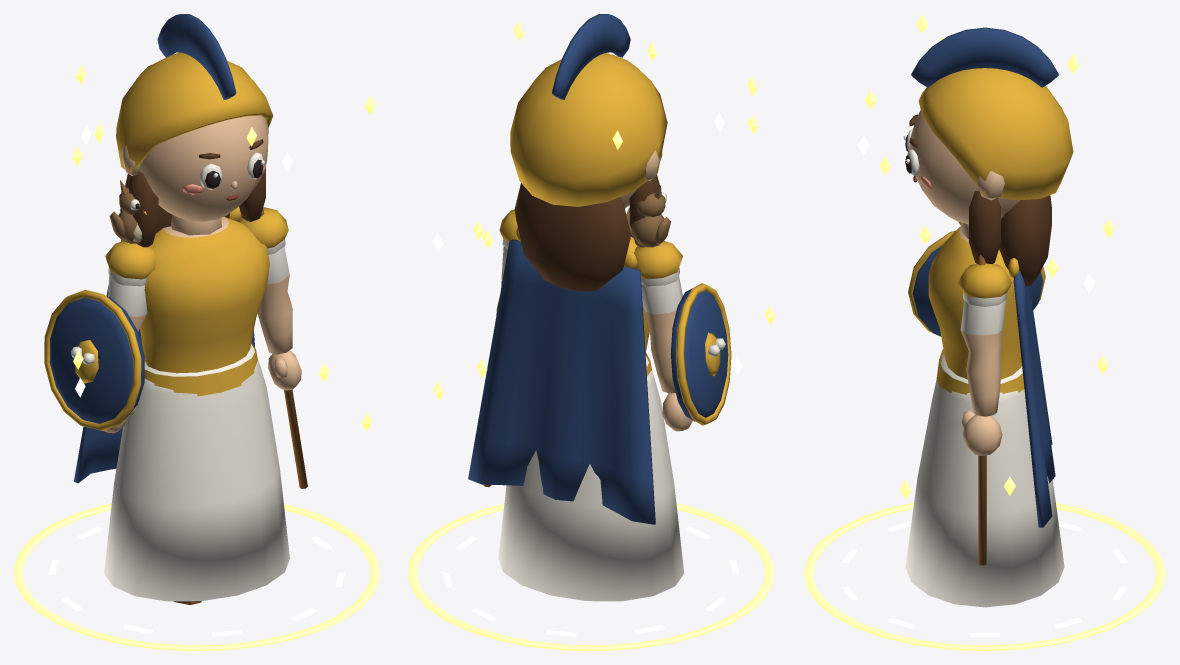
The model's file is athene.glb.
3 views of the same model, side by side, from view 1: azimuth 30°, elevation 25°; view 2: azimuth 150°, elevation 25°; view 3: azimuth 270°, elevation 25° (orthographic).
Parts seen in each view (by area): view 1: huefte, rumpf, kopfschmuck, itemL, kopf, vfx_aura, armR, armL, haare, umhang, begleiter, itemR; view 2: umhang, kopfschmuck, huefte, haare, itemL, vfx_aura, armL, begleiter, armR, vfx_glitzer_2; view 3: huefte, kopfschmuck, armR, rumpf, vfx_aura, haare, umhang, kopf, itemL, itemR, vfx_glitzer_0, vfx_glitzer_1.
Part boxes in pixels (bbox=[...]): huefte: bbox=[104, 344, 289, 601]; rumpf: bbox=[140, 216, 269, 396]; kopfschmuck: bbox=[116, 14, 273, 172]; itemL: bbox=[44, 290, 144, 430]; kopf: bbox=[121, 115, 268, 235]; vfx_aura: bbox=[14, 503, 379, 650]; armR: bbox=[238, 207, 301, 390]; armL: bbox=[104, 241, 156, 433]; haare: bbox=[120, 167, 265, 247]; umhang: bbox=[73, 207, 254, 483]; begleiter: bbox=[109, 180, 146, 243]; itemR: bbox=[261, 208, 307, 488]; umhang: bbox=[468, 227, 655, 524]; kopfschmuck: bbox=[510, 14, 667, 206]; huefte: bbox=[498, 356, 684, 601]; haare: bbox=[514, 174, 659, 291]; itemL: bbox=[670, 283, 731, 425]; vfx_aura: bbox=[408, 503, 774, 650]; armL: bbox=[634, 241, 692, 431]; begleiter: bbox=[626, 185, 670, 247]; armR: bbox=[496, 209, 517, 315]; vfx_glitzer_2: bbox=[433, 115, 758, 400]; huefte: bbox=[905, 353, 1064, 607]; kopfschmuck: bbox=[911, 27, 1073, 200]; armR: bbox=[958, 263, 1011, 455]; rumpf: bbox=[928, 226, 1024, 394]; vfx_aura: bbox=[804, 502, 1165, 650]; haare: bbox=[969, 190, 1051, 286]; umhang: bbox=[1008, 258, 1055, 527]; kopf: bbox=[910, 110, 1020, 239]; itemL: bbox=[908, 230, 1045, 336]; itemR: bbox=[978, 254, 986, 565]; vfx_glitzer_0: bbox=[857, 14, 1114, 238]; vfx_glitzer_1: bbox=[899, 225, 1094, 499].
Size of the model in its own units: 1.48 by 2.48 by 1.48.
